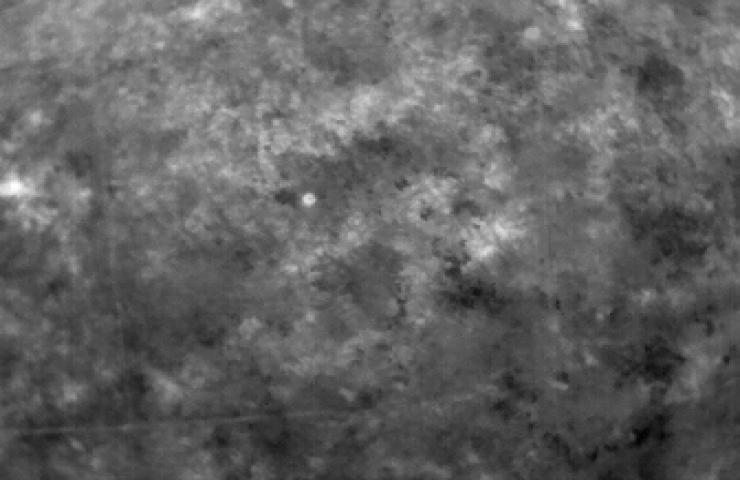landmines: (301, 191, 321, 209)
